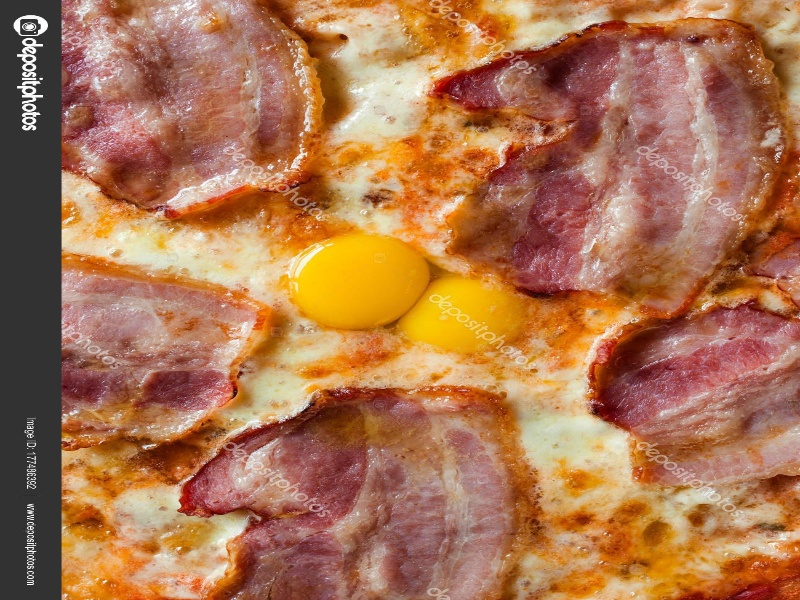oeuf: (276, 228, 435, 346), (411, 278, 548, 362)
